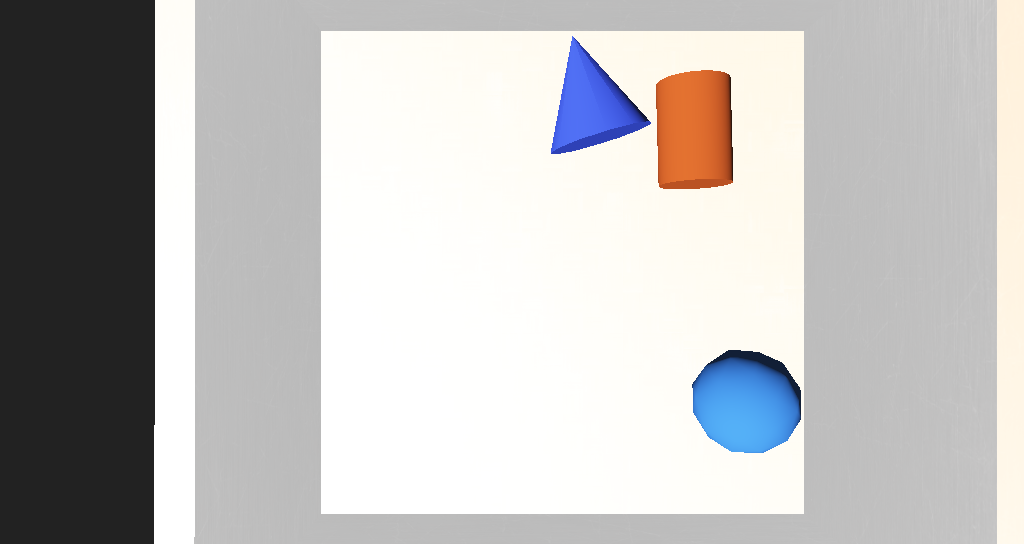cone: (559, 181, 613, 229)
cylinder: (478, 153, 559, 220)
sphere: (579, 303, 647, 346)
